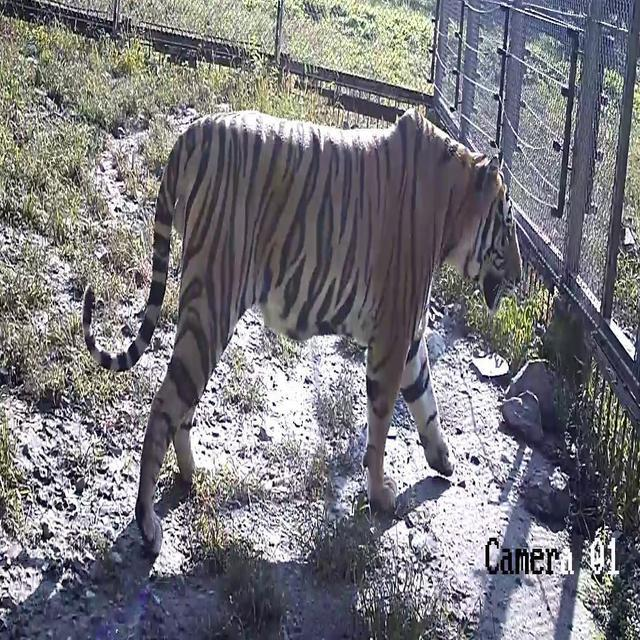tiger: (73, 92, 544, 559)
